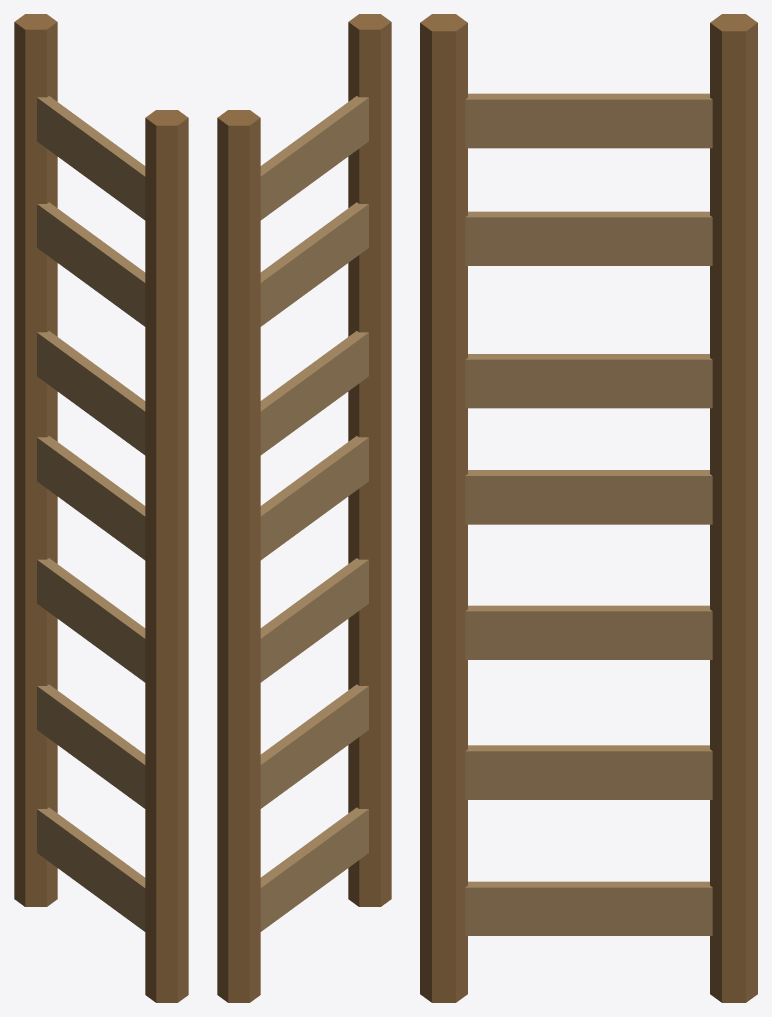
The model's file is echelle.fbx.
3 renders of one model, left to right at view 1: azimuth 30°, elevation 25°; view 2: azimuth 150°, elevation 25°; view 3: azimuth 270°, elevation 25°, orthographic. The views are drawn at different scales.
Parts seen in each view (by area): view 1: Cylinder.001, Cylinder, Cube.002, Cube.004, Cube.003, Cube.006, Cube, Cube.001, Cube.005; view 2: Cylinder, Cylinder.001, Cube.002, Cube.004, Cube.003, Cube.006, Cube, Cube.001, Cube.005; view 3: Cylinder, Cylinder.001, Cube.006, Cube.004, Cube.001, Cube.002, Cube.003, Cube.005, Cube.
Part boxes in pixels (x1,y1,x2,y2): Cylinder.001: (145, 110, 188, 1002); Cylinder: (14, 14, 57, 906); Cube.002: (37, 558, 145, 682); Cube.004: (37, 331, 145, 455); Cube.003: (37, 436, 145, 560); Cube.006: (37, 96, 145, 220); Cube: (37, 807, 145, 931); Cube.001: (37, 684, 145, 808); Cube.005: (37, 202, 145, 326); Cylinder: (217, 110, 260, 1002); Cylinder.001: (348, 14, 391, 906); Cube.002: (260, 558, 368, 682); Cube.004: (260, 331, 368, 455); Cube.003: (260, 436, 368, 560); Cube.006: (260, 96, 368, 220); Cube: (260, 807, 368, 931); Cube.001: (260, 684, 368, 808); Cube.005: (260, 202, 368, 326); Cylinder: (710, 14, 757, 1002); Cylinder.001: (420, 14, 467, 1002); Cube.006: (465, 93, 712, 148); Cube.004: (465, 354, 712, 408); Cube.001: (465, 745, 712, 799); Cube.002: (465, 605, 712, 659); Cube.003: (465, 470, 712, 524); Cube.005: (465, 211, 712, 265); Cube: (465, 881, 712, 935).
Bounding box in the file's own units: 33.55 × 870 × 274.
